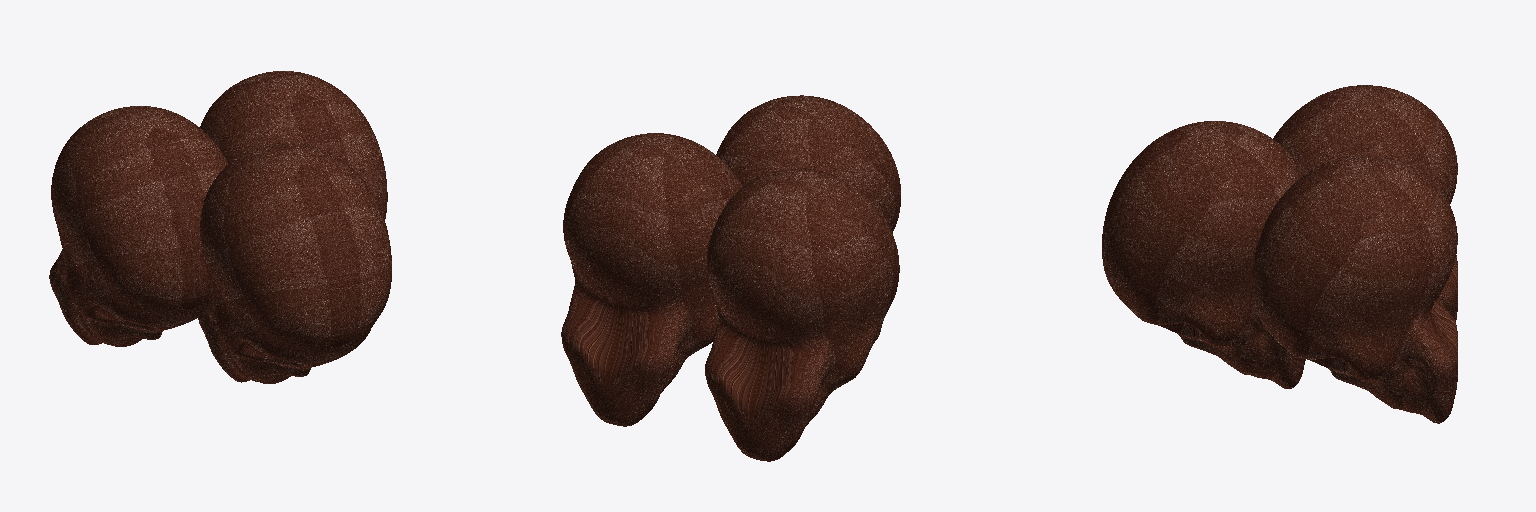
3 renders of one model, left to right at view 1: azimuth 30°, elevation 25°; view 2: azimuth 150°, elevation 25°; view 3: azimuth 270°, elevation 25°, orthographic.
Parts seen in each view (by area): view 1: sugar_skulls_v1; view 2: sugar_skulls_v1; view 3: sugar_skulls_v1.
Boxes of the visible parts, x1,y1,x2,y2 form: sugar_skulls_v1: [49, 71, 391, 383]; sugar_skulls_v1: [561, 95, 900, 461]; sugar_skulls_v1: [1102, 85, 1457, 423].
Bounding box in the file's own units: 13.98 × 11.45 × 14.52.
Materials: 1 (1 with a texture image).